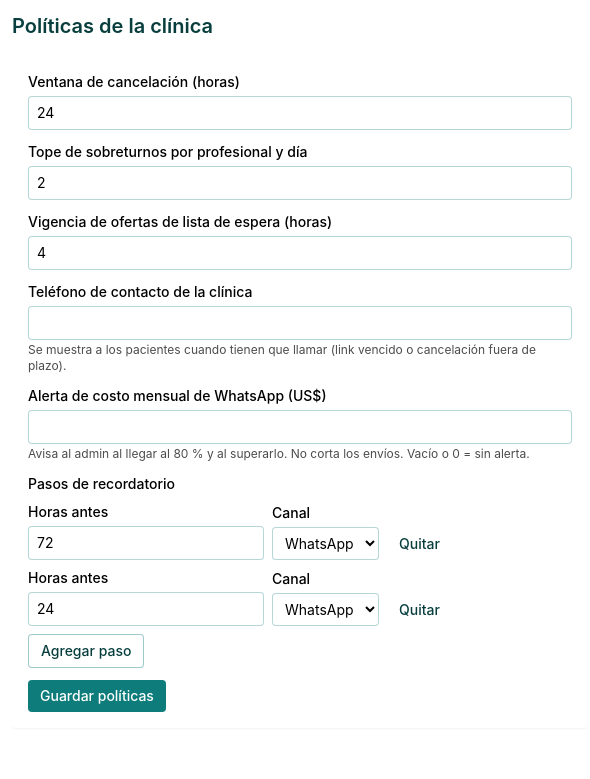
PoliciesPage — teléfono de contacto (C-08) › el admin carga el teléfono y ve el valor normalizado
Type "011 5555-0100" into the field labelled "Teléfono de contacto de la clínica" at (300, 323), box [28, 306, 572, 340]
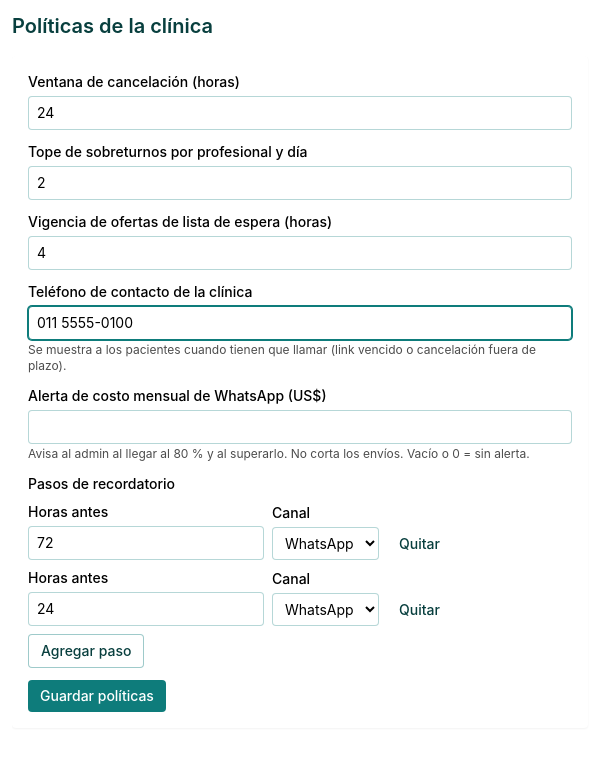
Click the button "Guardar políticas" at (97, 696), box [28, 680, 166, 712]
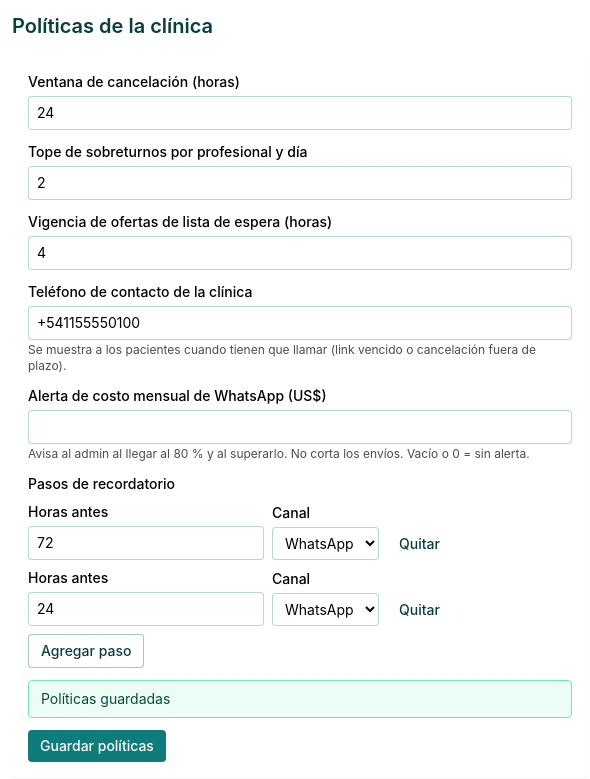
Expected: the text "Políticas guardadas" is shown, [28, 680, 572, 718]
Expected: the field labelled "Teléfono de contacto de la clínica" holds "+541155550100", [28, 306, 572, 340]
